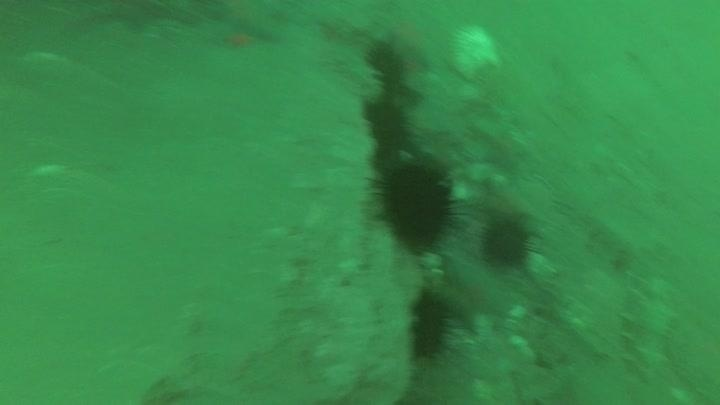echinus: (370, 158, 460, 253), (405, 287, 457, 364), (477, 211, 537, 270), (361, 97, 412, 154), (362, 38, 410, 93)
holothurian: (618, 271, 680, 381)
starfish: (431, 250, 514, 334), (467, 116, 530, 174), (212, 17, 280, 52)
